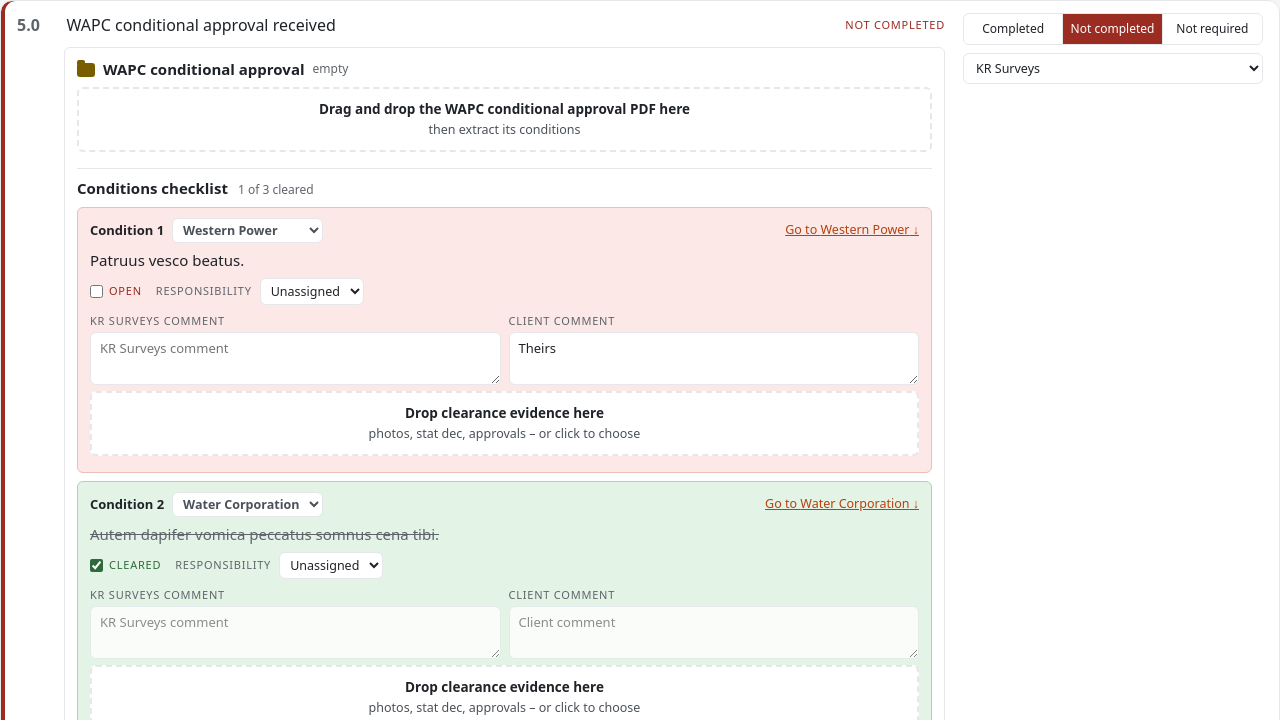
Test: condition comments › reloads and says so when the condition changed meanwhile (412)
In the 1st text box with placeholder "KR Surveys comment": (295, 358) [90, 332, 500, 385], type "Mine"
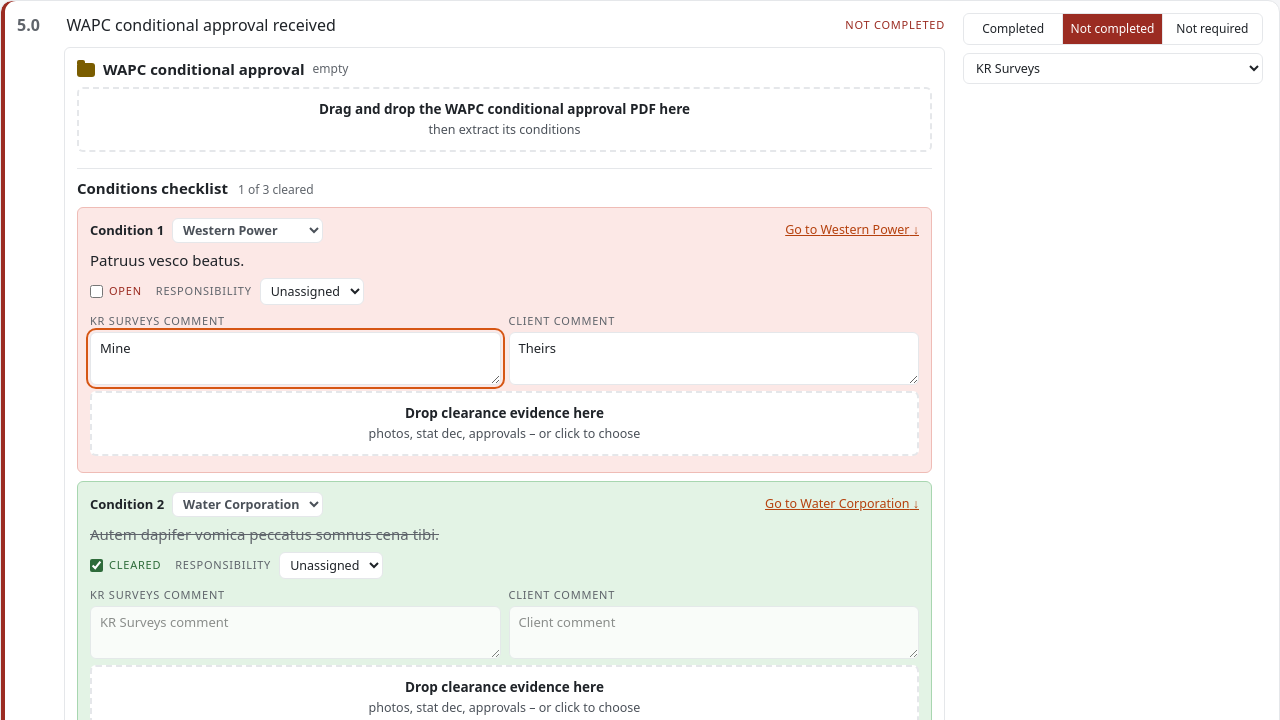
Press Tab
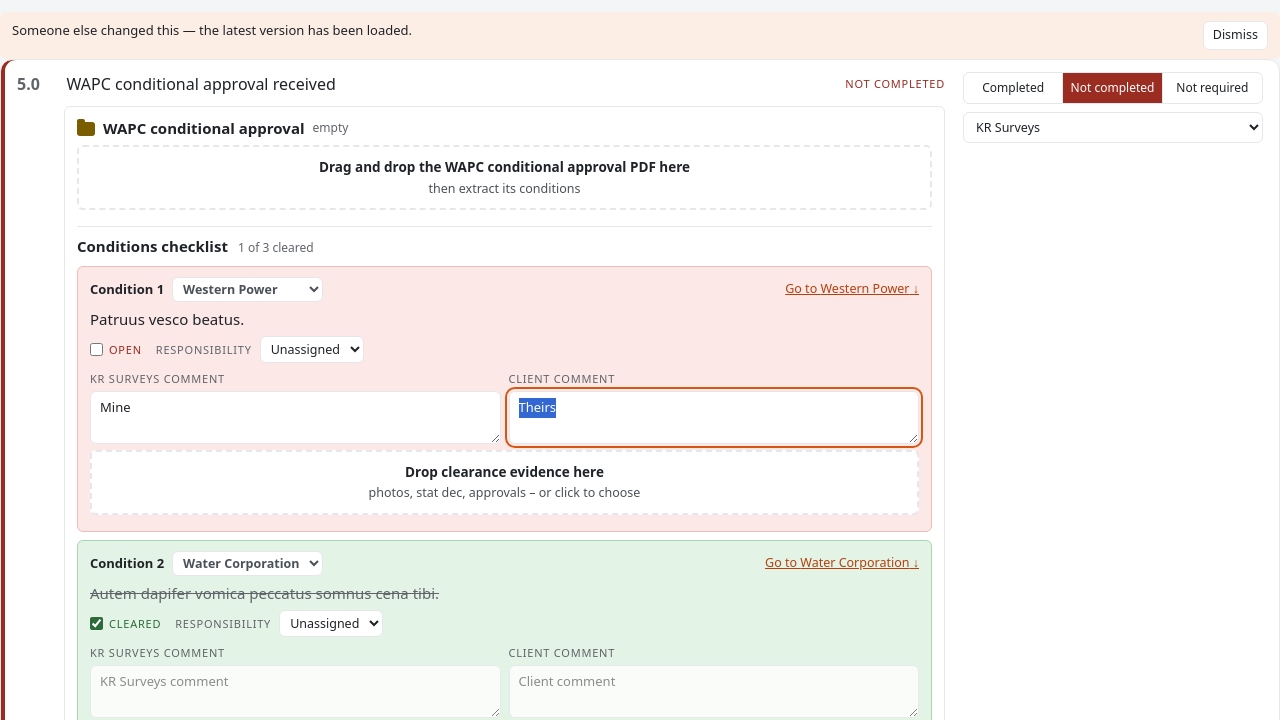
Check: the text "Someone else changed this — the latest version has been loaded." is shown, box [12, 21, 412, 39]
